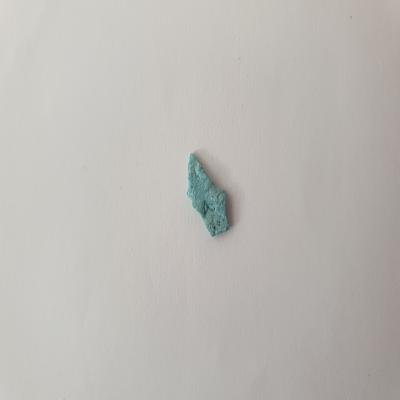plastic: (181, 148, 237, 240)
